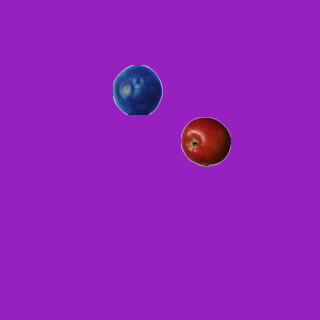Apple Braeburn: (180, 116, 230, 166)
Huckleberry: (112, 64, 162, 114)
